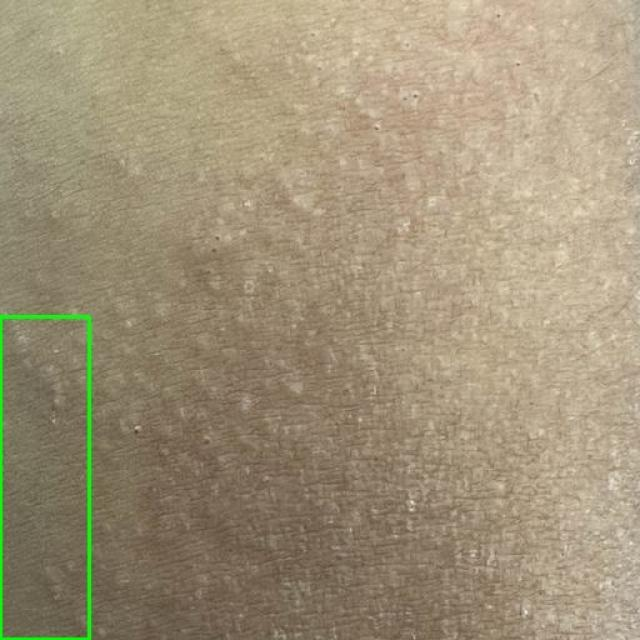Contact Dermatitis: (0, 316, 89, 639)
